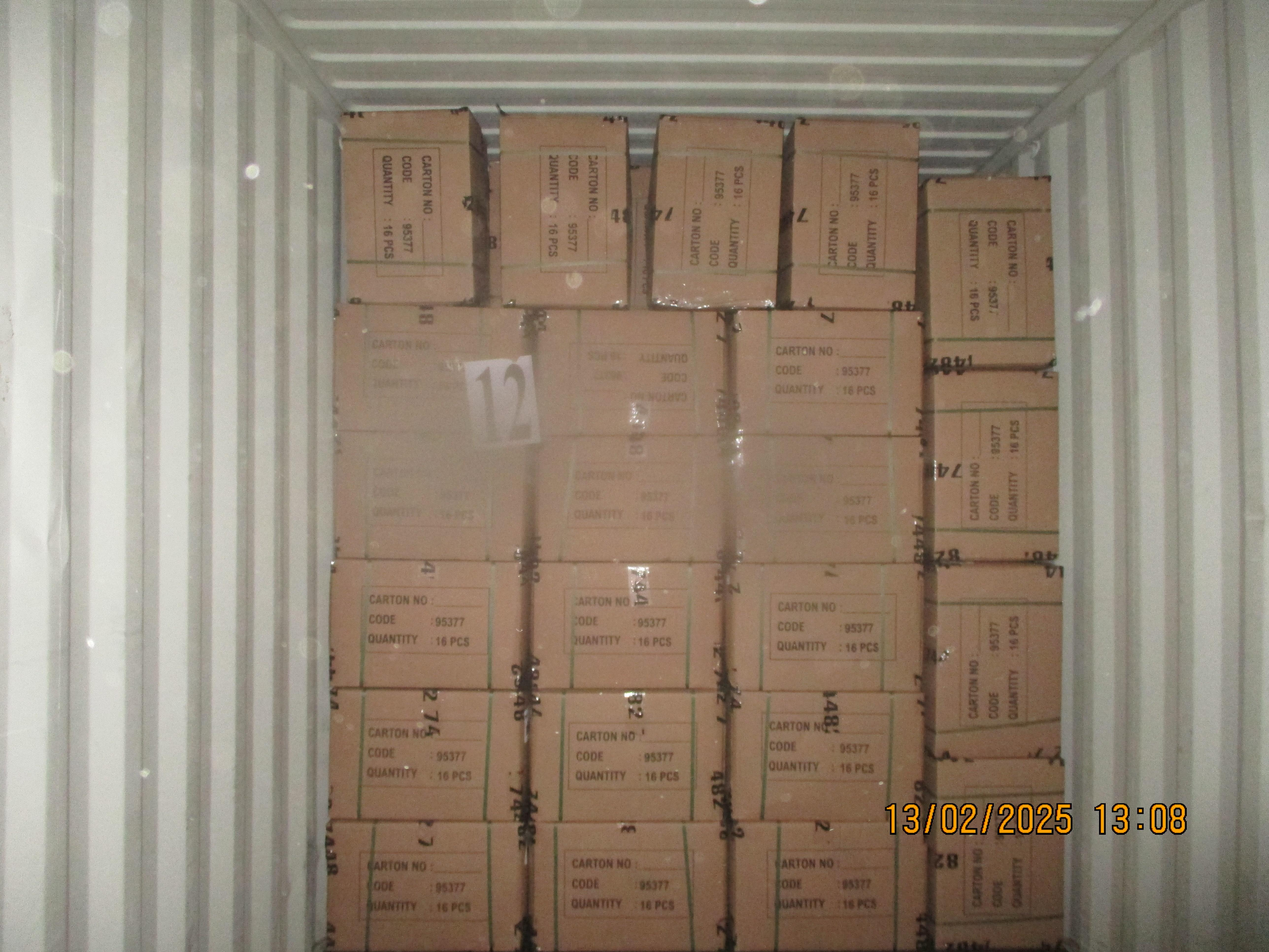carton: (339, 117, 489, 304), (922, 561, 1063, 759), (927, 758, 1067, 952), (777, 117, 918, 309), (727, 821, 930, 952), (325, 821, 527, 952), (527, 690, 727, 822), (723, 562, 926, 692), (916, 174, 1054, 365), (333, 304, 534, 435), (923, 368, 1059, 561), (527, 821, 727, 952), (329, 689, 527, 821), (330, 559, 528, 690), (333, 432, 534, 561), (727, 692, 924, 822), (497, 111, 628, 306), (653, 113, 783, 308), (729, 435, 924, 563), (533, 308, 727, 436), (531, 561, 723, 690), (535, 435, 730, 562), (728, 309, 922, 436)
